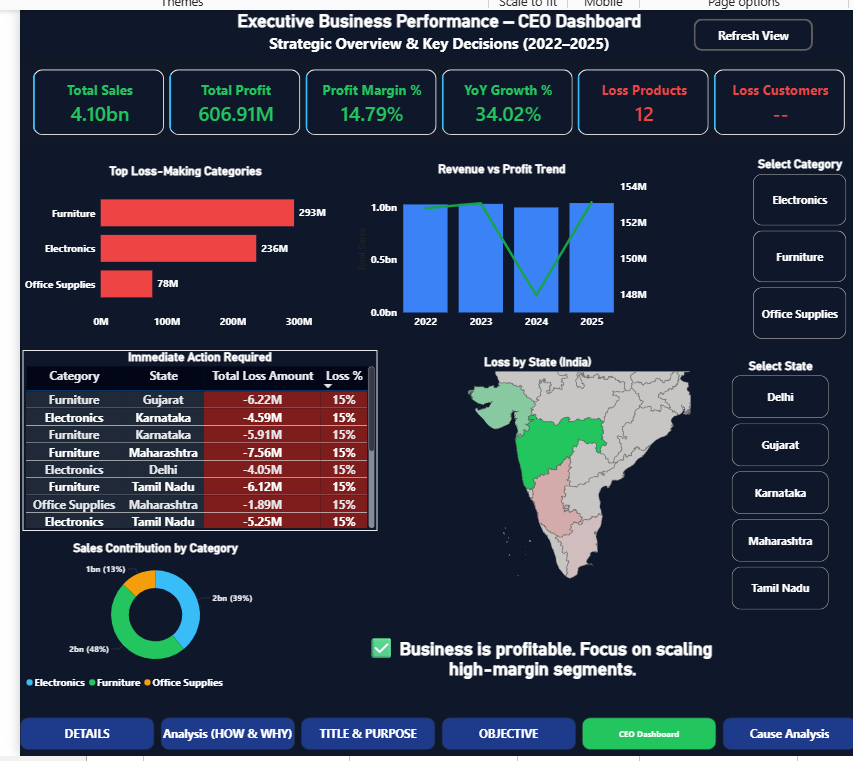

The page's visual inventory and layout, read from the dashboard file:
{"tool":"powerbi","page":{"name":"CEO Dashboard","canvas":[1350,1200],"ordinal":4},"visuals":[{"type":"textbox","title":"Executive Business Performance – CEO Dashboard","box":[0,0,1349.2,75.6],"z":0},{"type":"cardVisual","fields":{"Data":["Sales_Fact_Table.Total Sales","Sales_Fact_Table.Total Profit","Sales_Fact_Table.Profit Margin %","Sales_Fact_Table.YoY Growth %","Customer_Table.Loss Products","Customer_Table.Loss Customers"]},"box":[4,78.4,1345.2,140.8],"z":1000},{"type":"clusteredBarChart","title":"Top Loss-Making Categories","fields":{"Y":["Sales_Fact_Table.Total Profit"],"Category":["Product_Table.Category"]},"box":[2,247.3,528.8,275.5],"z":2000},{"type":"tableEx","title":"Immediate Action Required","fields":{"Values":["Product_Table.Category","Customer_Table.State","Customer_Table.Loss Amount","Customer_Table.Loss %"]},"box":[4,546.9,571,291.6],"z":3000},{"type":"advancedSlicerVisual","title":"Select Category","fields":{"Values":["Product_Table.Category"]},"box":[1174.3,237.3,160.9,299.6],"z":5000},{"type":"actionButton","box":[1083.8,14.7,191.7,51.6],"z":6000},{"type":"pageNavigator","box":[0,1138.1,1349.2,52.3],"z":7000},{"type":"lineClusteredColumnComboChart","title":"Revenue vs Profit Trend","fields":{"Y":["Sales_Fact_Table.Total Sales"],"Category":["Calendar_Table.Year"],"Y2":["Sales_Fact_Table.Total Profit"]},"box":[536.9,245.3,476.5,277.5],"z":8000},{"type":"donutChart","title":"Sales Contribution by Category","fields":{"Y":["Sales_Fact_Table.Total Sales"],"Category":["Product_Table.Category"]},"box":[4,854.6,428.3,247.3],"z":9000},{"type":"advancedSlicerVisual","title":"Select State","fields":{"Values":["Customer_Table.State"]},"box":[1140.1,561,166.9,410.2],"z":10000},{"type":"shapeMap","title":"Loss by State (India)","fields":{"Value":["Sales_Fact_Table.Total Profit"],"Category":["Customer_Table.State_Map"]},"box":[581.1,555,502.7,382],"z":11000},{"type":"card","fields":{"Values":["Sales_Fact_Table.CEO Insight"]},"box":[454.4,993.3,772.1,96.5],"z":11001}]}

Visuals, with their boxes on the page's 1350x1200 design canvas (x1, y1, x2, y2). These are canvas units, not pixel positions in the 853x761 screenshot, which may show the page scaled, cropped or inside an application window:
"Executive Business Performance – CEO Dashboard" textbox: (0, 0, 1349, 76)
cardVisual - Sales_Fact_Table.Total Sales x Sales_Fact_Table.Total Profit: (4, 78, 1349, 219)
"Top Loss-Making Categories" clusteredBarChart: (2, 247, 531, 523)
"Immediate Action Required" tableEx: (4, 547, 575, 838)
"Select Category" advancedSlicerVisual: (1174, 237, 1335, 537)
actionButton: (1084, 15, 1276, 66)
pageNavigator: (0, 1138, 1349, 1190)
"Revenue vs Profit Trend" lineClusteredColumnComboChart: (537, 245, 1013, 523)
"Sales Contribution by Category" donutChart: (4, 855, 432, 1102)
"Select State" advancedSlicerVisual: (1140, 561, 1307, 971)
"Loss by State (India)" shapeMap: (581, 555, 1084, 937)
card - Sales_Fact_Table.CEO Insight: (454, 993, 1226, 1090)
